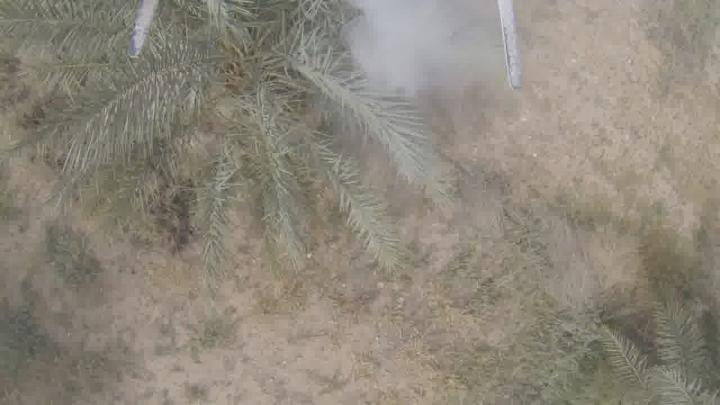Date-Palm-Crown: (106, 0, 388, 190), (618, 318, 720, 404)
